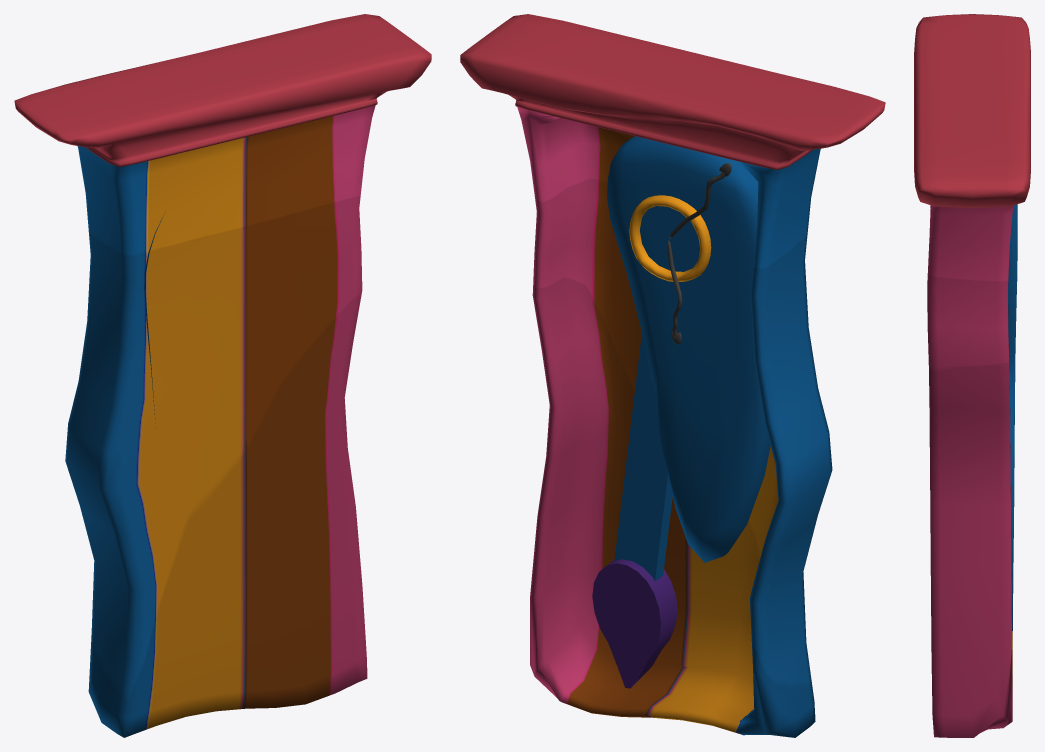
File: geo_fullclock.fbx
3 views of the same model, side by side, from view 1: azimuth 30°, elevation 25°; view 2: azimuth 150°, elevation 25°; view 3: azimuth 270°, elevation 25° (orthographic). The views are drawn at different scales.
Visible parts, largest first — view 1: geo_Clock; view 2: geo_Clock, geo_Hand; view 3: geo_Clock.
Part boxes in pixels (bbox=[...]): geo_Clock: bbox=[14, 14, 431, 737]; geo_Clock: bbox=[460, 14, 885, 737]; geo_Hand: bbox=[592, 333, 677, 688]; geo_Clock: bbox=[914, 14, 1030, 737].
Bounding box in the file's own units: 88.37 × 142 × 25.43.
Materials: 1 (1 with a texture image).
